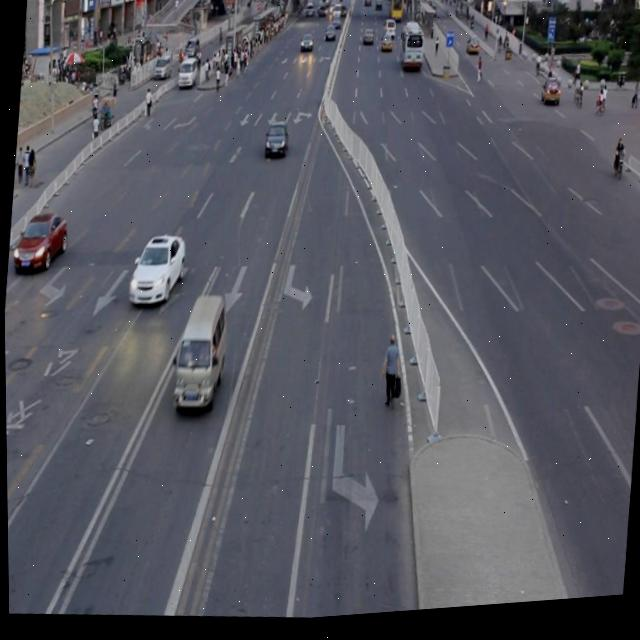car: (126, 232, 187, 310), (10, 208, 69, 278), (262, 121, 289, 163)
truck: (169, 292, 228, 415)
